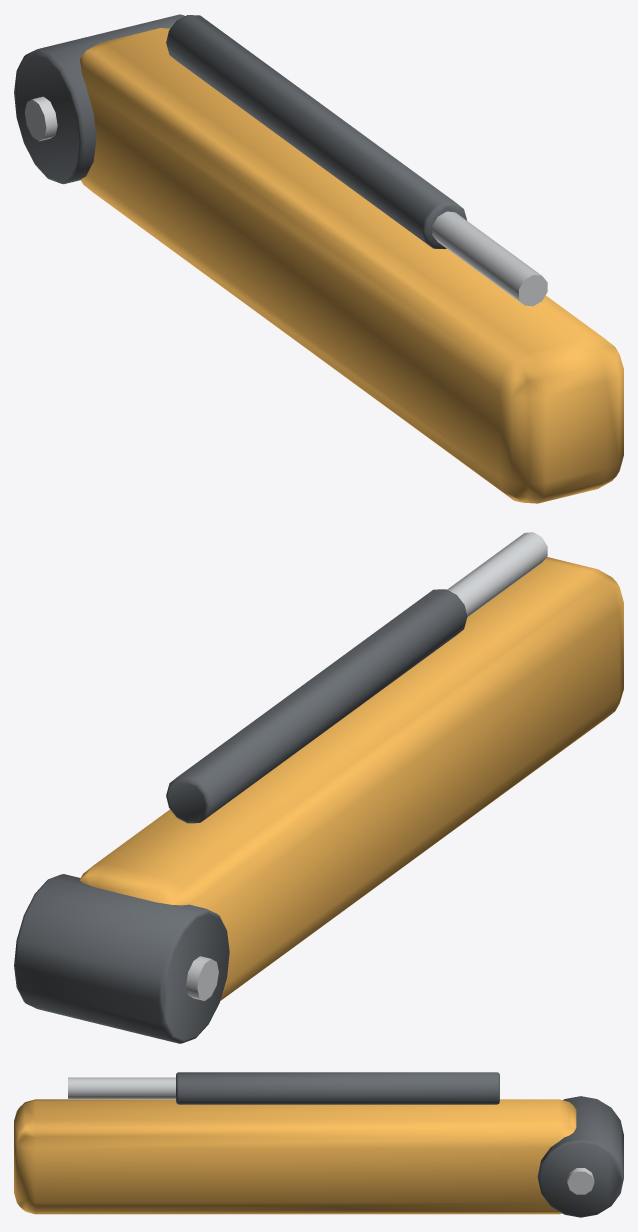
Rendered from exc_stick.glb.
The picture shows the model from 3 angles, top to bottom: view 1: azimuth 30°, elevation 25°; view 2: azimuth 150°, elevation 25°; view 3: azimuth 270°, elevation 25°; orthographic projection. The views are drawn at different scales.
Visible parts, largest first — view 1: Body; view 2: Body; view 3: Body.
Boxes of the visible parts, x1,y1,x2,y2 form: Body: (14,14,623,503); Body: (14,532,623,1043); Body: (14,1072,623,1217).
Bounding box in the file's own units: 0.46 × 0.53 × 2.26.
